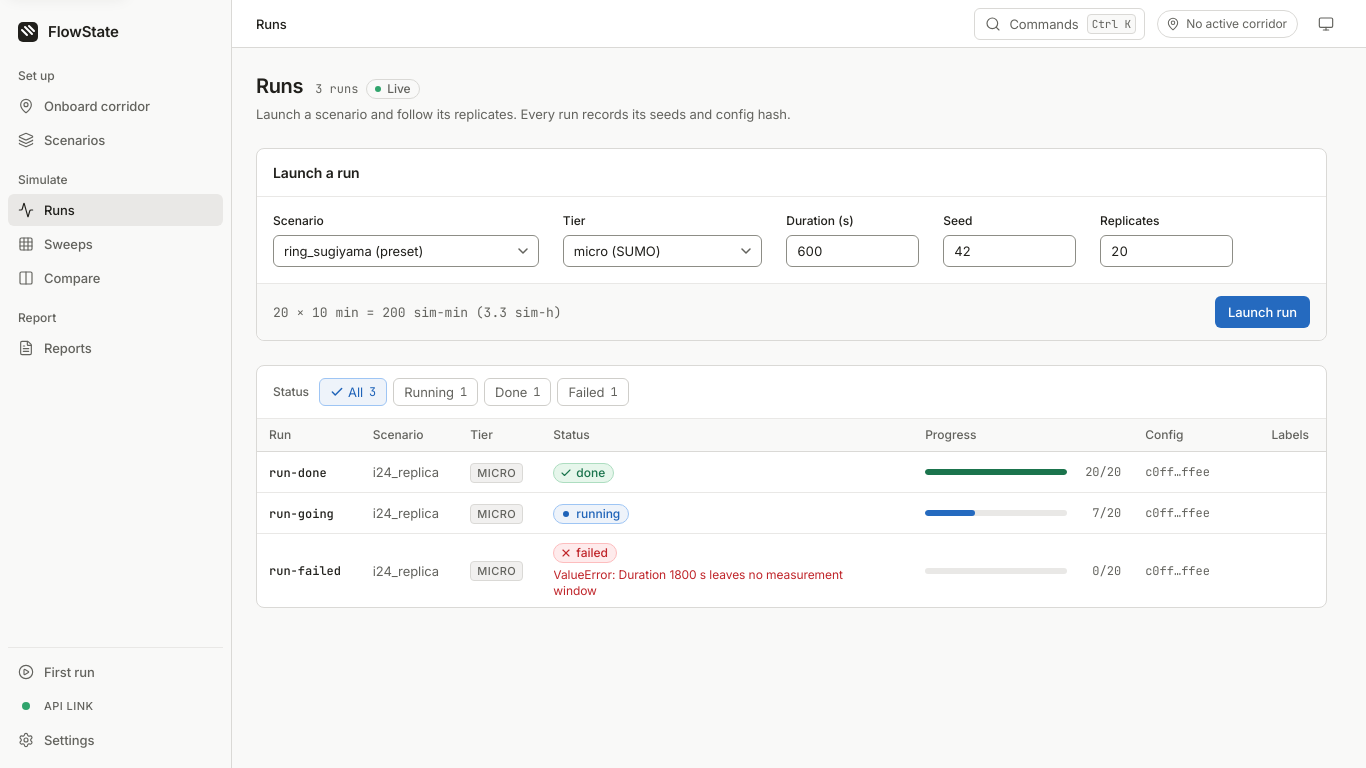
accessibility audit: live API states › the Settings drawer
Expected: the text "API LINK" is shown, top-left (44, 698), bottom-right (93, 714)
Click the button "Settings": (116,740) top-left (8, 724), bottom-right (223, 756)
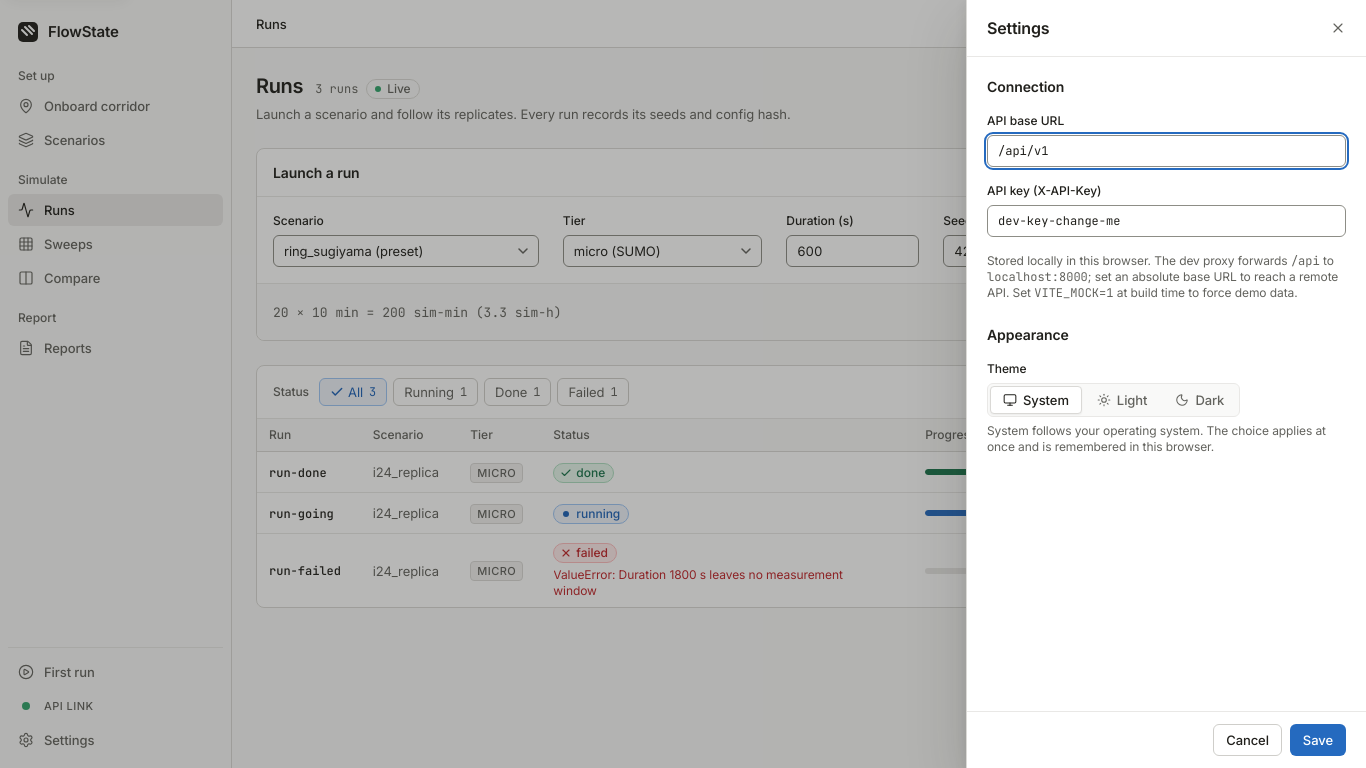
Now the dialog "Settings" is shown, box top-left (966, 0), bottom-right (1365, 767)
